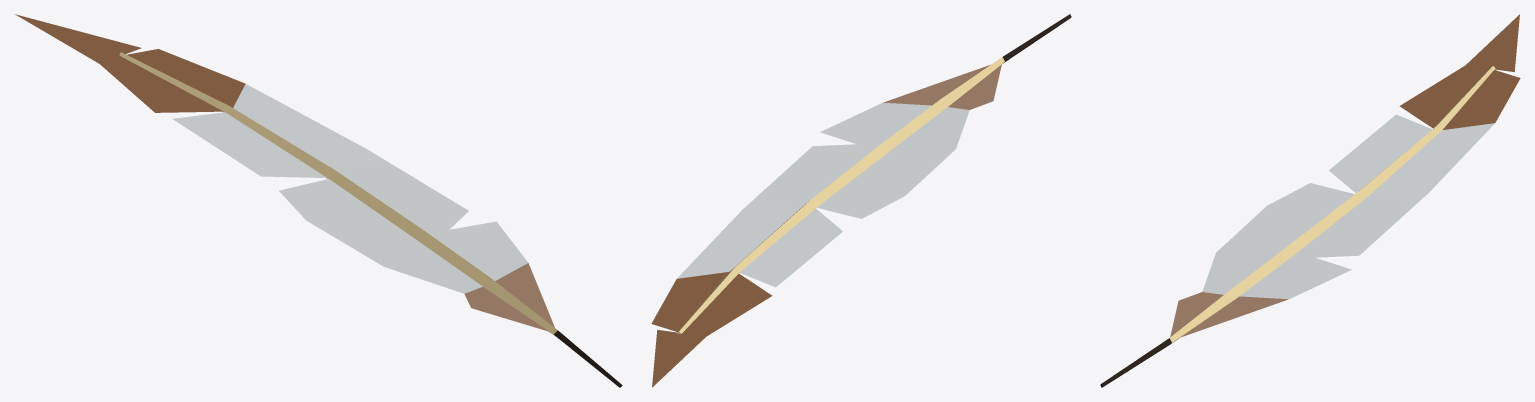
Rendered from FeatherQuillPen_A.fbx.
The picture shows the model from 3 angles, left to right: view 1: azimuth 30°, elevation 25°; view 2: azimuth 150°, elevation 25°; view 3: azimuth 330°, elevation 25°; orthographic projection. The views are drawn at different scales.
Parts seen in each view (by area): view 1: FeatherQuillPen_A; view 2: FeatherQuillPen_A; view 3: FeatherQuillPen_A.
Part boxes in pixels (<box>): FeatherQuillPen_A: <box>15,14,622,387</box>; FeatherQuillPen_A: <box>651,14,1071,387</box>; FeatherQuillPen_A: <box>1100,14,1520,387</box>.
Size of the model in its own units: 10.87 by 1.07 by 67.23.
